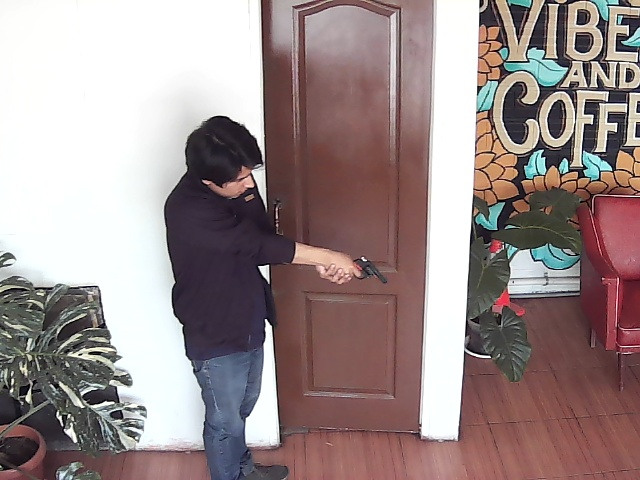pistola: (336, 248, 395, 294)
